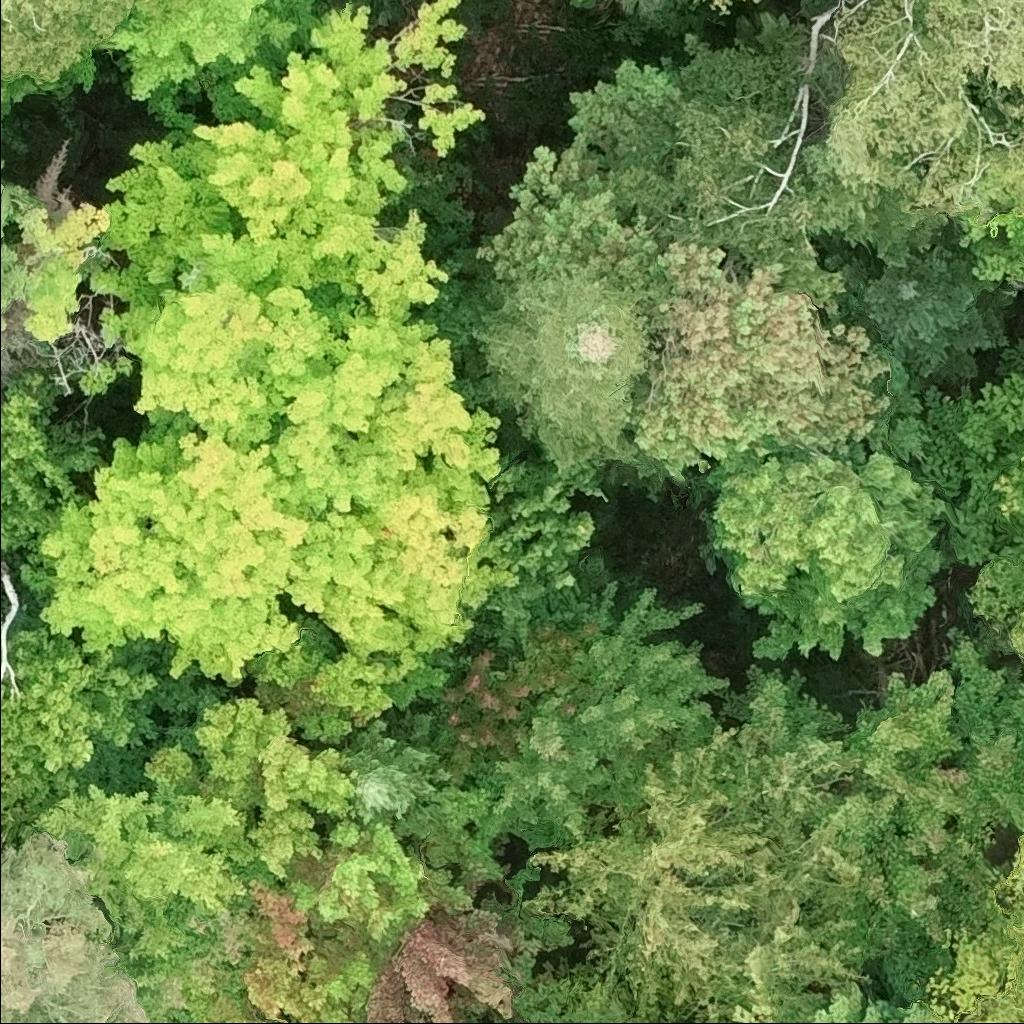crown: (97, 0, 491, 323), (721, 628, 1023, 999), (503, 719, 870, 1023), (78, 257, 480, 517), (18, 423, 311, 685), (285, 404, 524, 717), (472, 581, 734, 849), (155, 813, 475, 1023), (630, 237, 893, 483), (699, 447, 949, 661), (827, 0, 1023, 222), (459, 264, 660, 476), (21, 777, 251, 962), (140, 699, 355, 882), (0, 600, 162, 810), (471, 144, 668, 304), (818, 241, 1016, 397), (0, 828, 155, 1023), (426, 614, 598, 783), (365, 895, 577, 1023), (923, 336, 1023, 568), (103, 0, 323, 99), (477, 453, 599, 625), (0, 370, 110, 554), (0, 0, 198, 88), (7, 188, 107, 345), (341, 712, 454, 826), (974, 853, 1023, 1023), (776, 981, 946, 1023), (0, 151, 33, 356), (966, 554, 1023, 659), (126, 961, 194, 1023), (0, 80, 48, 140), (690, 0, 759, 14), (0, 745, 16, 794), (587, 1012, 633, 1023), (971, 1017, 1009, 1023), (725, 1019, 746, 1023)
